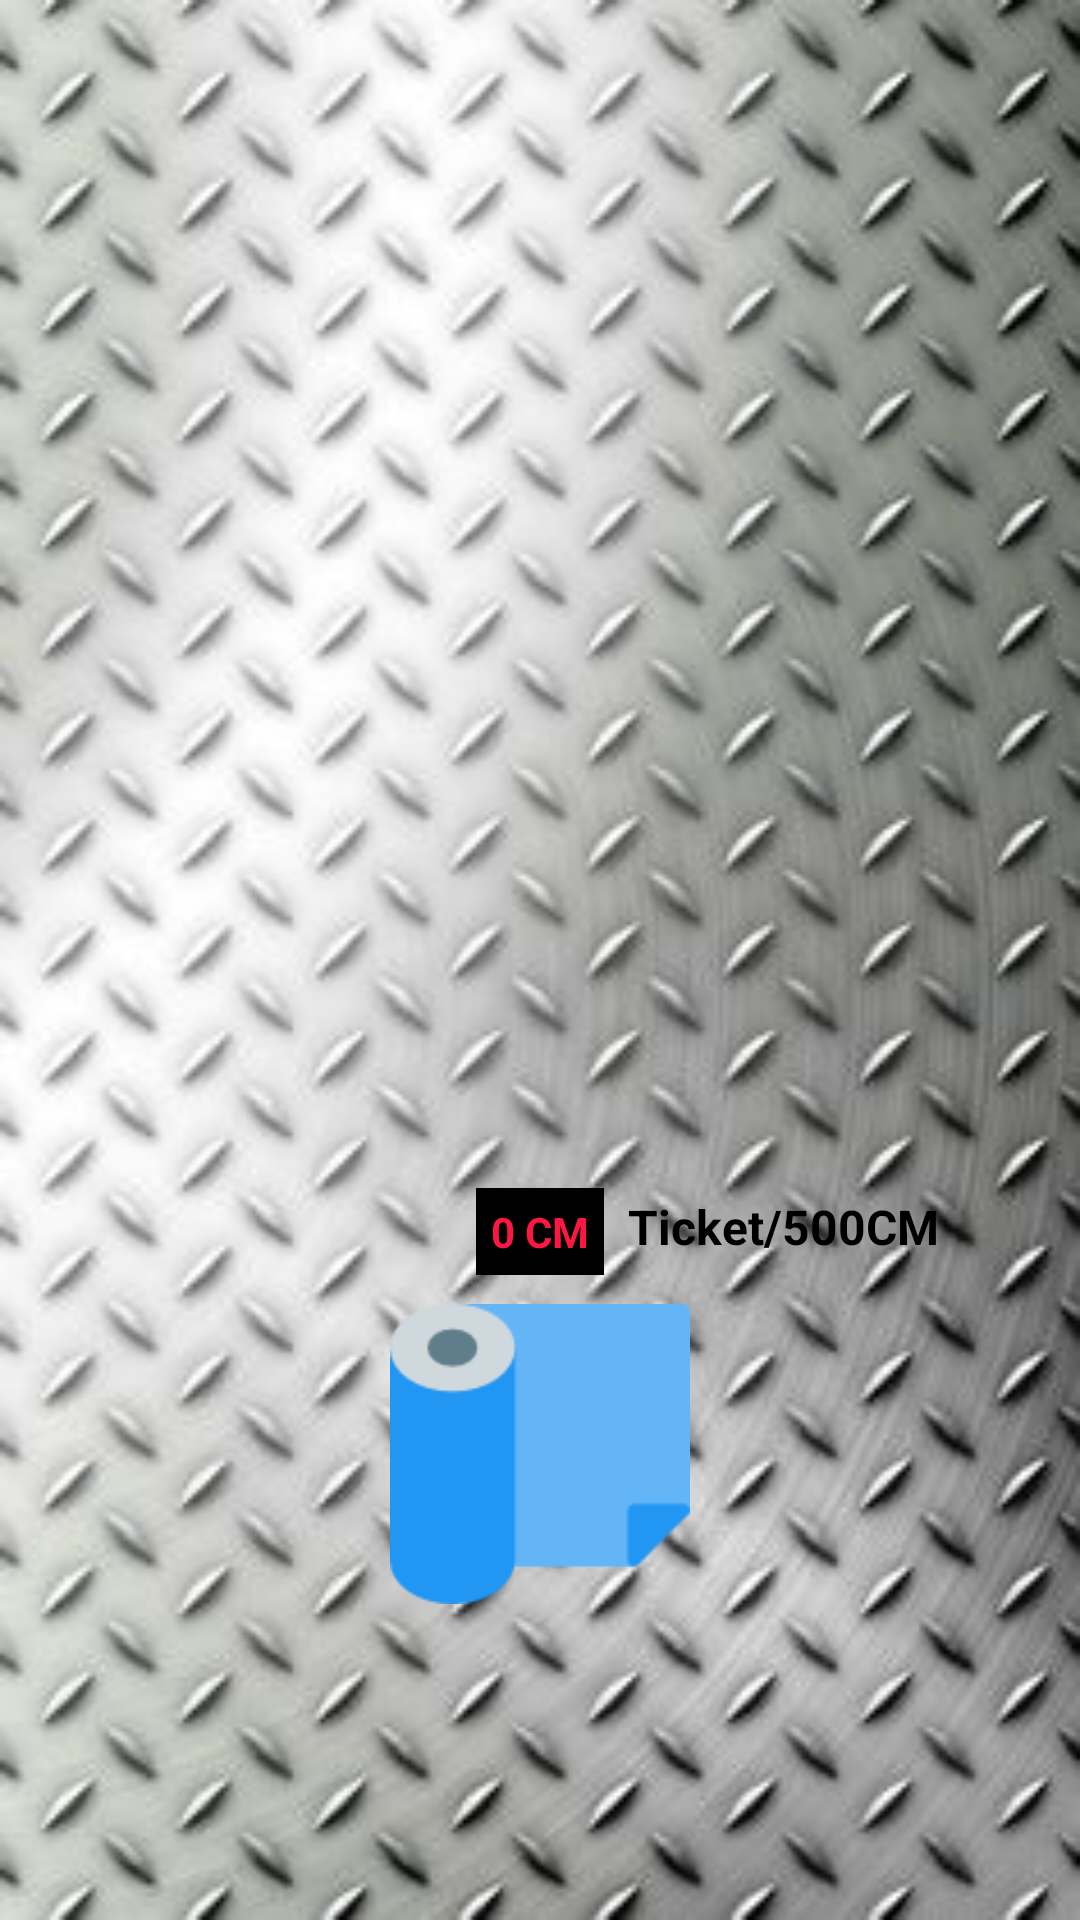

Icon click points for this 1080 × 1920 phone screenshot, format (x=x, y=y):
paper: (x=540, y=1454)
